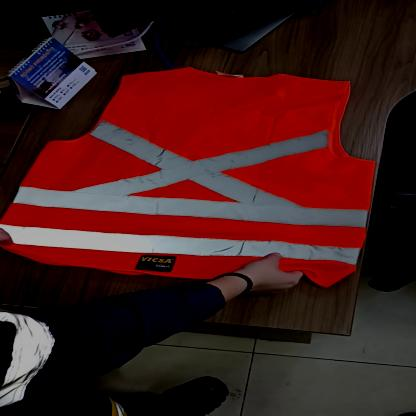colete: (1, 68, 375, 291)
